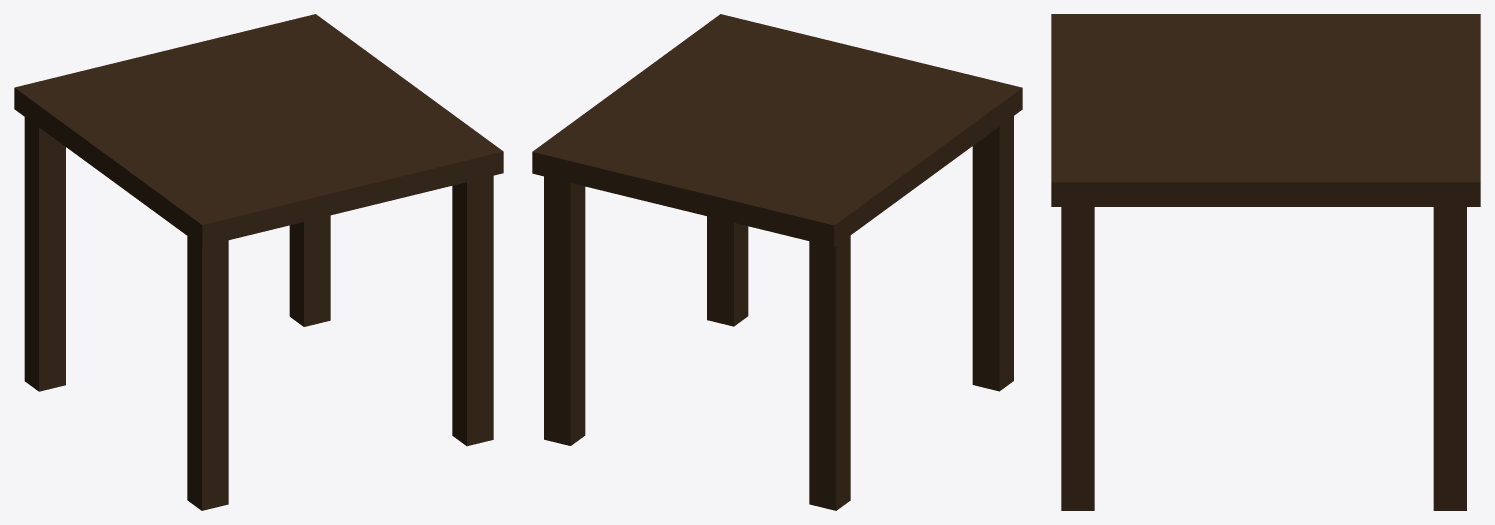
Rendered from WoodTable_1.FBX.
3 views of the same model, side by side, from view 1: azimuth 30°, elevation 25°; view 2: azimuth 150°, elevation 25°; view 3: azimuth 270°, elevation 25° (orthographic). The views are drawn at different scales.
Parts seen in each view (by area): view 1: Plane002; view 2: Plane002; view 3: Plane002.
Boxes of the visible parts, left/top/right/bottom form: Plane002: left=14, top=14, right=503, bottom=510; Plane002: left=532, top=14, right=1022, bottom=510; Plane002: left=1051, top=14, right=1480, bottom=510.
Bounding box in the file's own units: 28.17 × 25.93 × 30.42.
